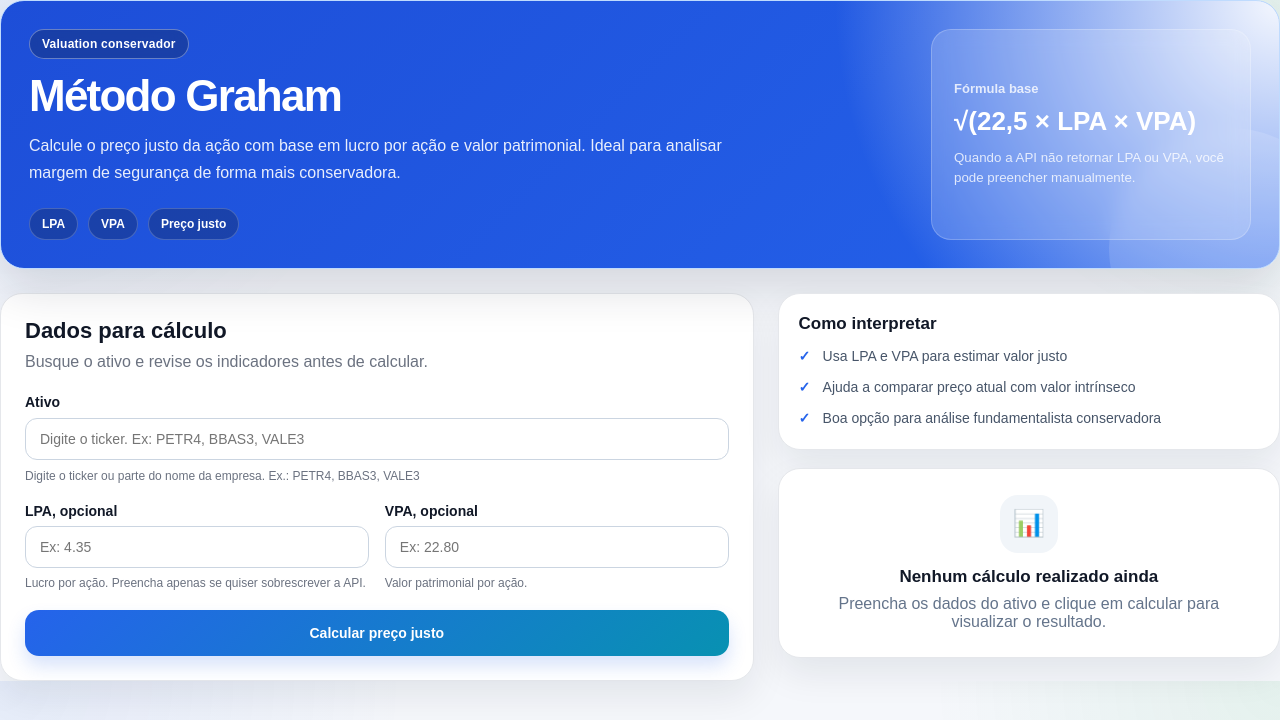
Scenario: Valuation pages › valida ticker obrigatório na página Graham
Click the button "Calcular preço justo" at [377, 633], box top-left (25, 610), bottom-right (729, 656)
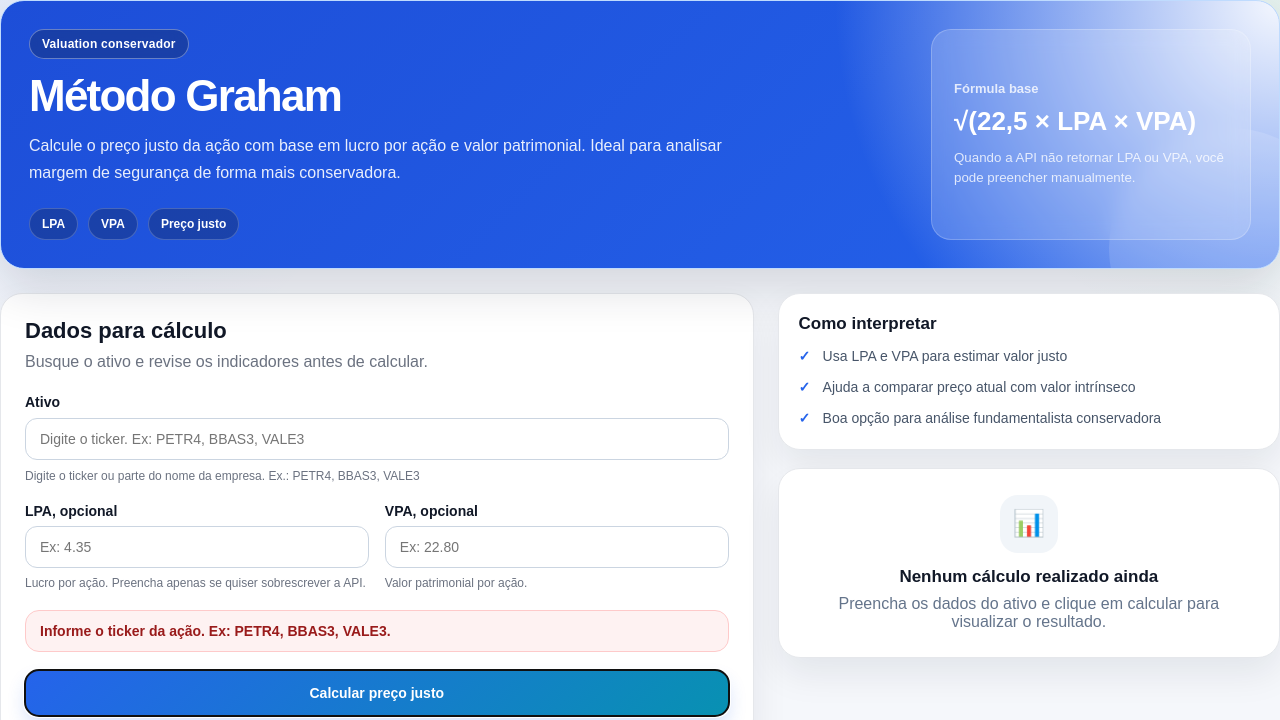
Check: the text "Informe o ticker da ação. Ex: PETR4, BBAS3, VALE3." is shown, box top-left (25, 610), bottom-right (729, 652)
